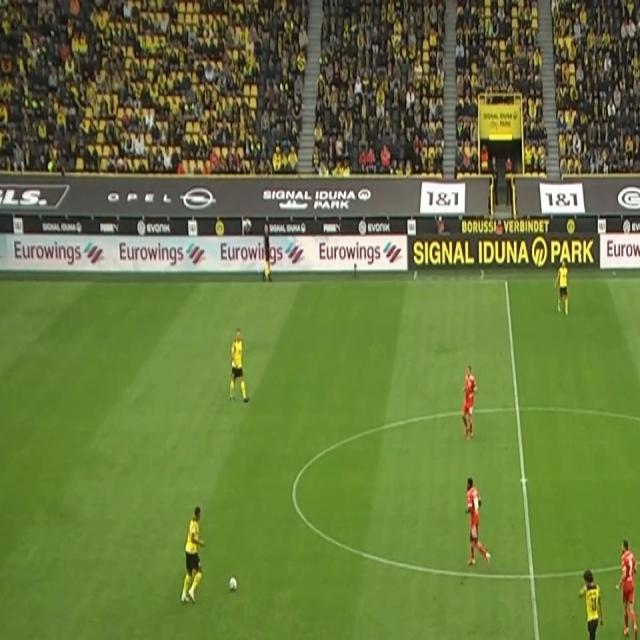ball: (228, 575, 238, 593)
